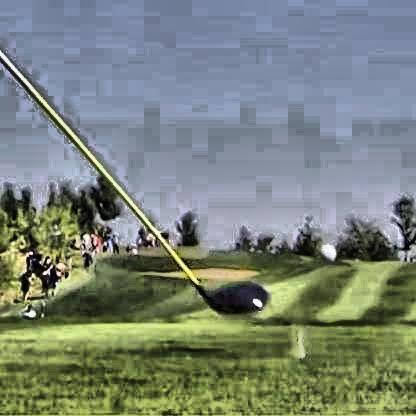golfball: (315, 241, 335, 262)
